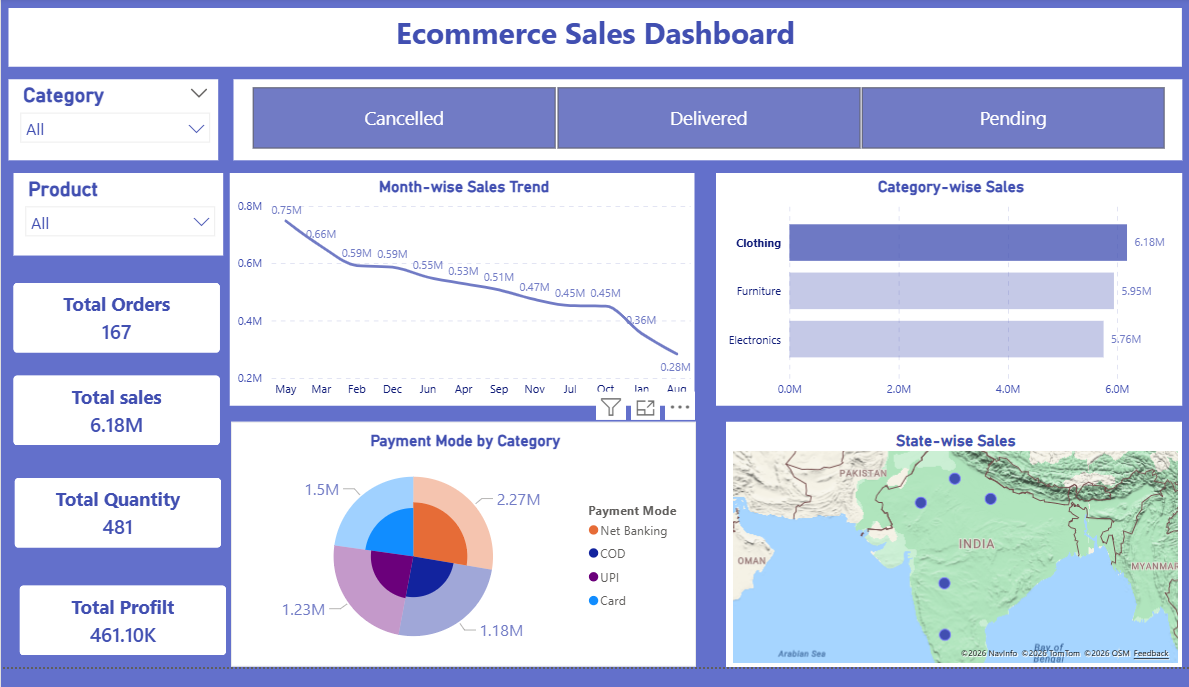

This screenshot's page, from the dashboard's own definition file:
{"tool":"powerbi","page":{"name":"Page 1","canvas":[1280,720],"ordinal":0},"visuals":[{"type":"textbox","box":[8.1,10.8,1262.8,63.2],"z":0},{"type":"cardVisual","fields":{"Data":["Ecommerce_Data.Total sales"]},"box":[1.3,394,246.1,99.5],"z":1000},{"type":"cardVisual","fields":{"Data":["Ecommerce_Data.Total Quantity"]},"box":[2.7,504.3,246.1,99.5],"z":2000},{"type":"cardVisual","fields":{"Data":["Ecommerce_Data.Total Profilt"]},"box":[8.1,620,246.1,99.5],"z":3000},{"type":"cardVisual","fields":{"Data":["Ecommerce_Data.Total Orders"]},"box":[1.3,294.5,246.1,99.5],"z":4000},{"type":"lineChart","title":"Month-wise Sales Trend","fields":{"Y":["Ecommerce_Data.Total sales"],"Category":["Ecommerce_Data.Month"]},"box":[246.1,188.3,500.3,250.1],"z":5000},{"type":"barChart","title":"Category-wise Sales","fields":{"Category":["Ecommerce_Data.Category"],"Y":["Ecommerce_Data.Total sales"]},"box":[769.2,188.3,501.6,250.1],"z":6000},{"type":"pieChart","title":" Payment Mode by Category","fields":{"Category":["Ecommerce_Data.Payment Mode"],"Y":["Sum(Ecommerce_Data.Sales)"]},"box":[248,455.9,500.3,263.6],"z":7000},{"type":"azureMap","title":"State-wise Sales","fields":{"Size":["Sum(Ecommerce_Data.Sales)"],"Category":["Ecommerce_Data.State"]},"box":[780.2,456.1,490.4,264.1],"z":8000},{"type":"slicer","fields":{"Values":["Ecommerce_Data.Delivery Status"]},"box":[250.1,87.4,1020.7,87.4],"z":8001},{"type":"slicer","fields":{"Values":["Ecommerce_Data.Category"]},"box":[8.1,87.4,225.9,87.4],"z":8002},{"type":"slicer","fields":{"Values":["Ecommerce_Data.Product"]},"box":[13.4,188.3,225.9,88.8],"z":8003}]}

Visuals, with their boxes in screenshot pixels (x1, y1, x2, y2), scaled from the page's 1280x720 canvas onto the 1189x687 screenshot:
textbox: <box>8,10,1181,71</box>
cardVisual - Ecommerce_Data.Total sales: <box>1,376,230,471</box>
cardVisual - Ecommerce_Data.Total Quantity: <box>3,481,231,576</box>
cardVisual - Ecommerce_Data.Total Profilt: <box>8,592,236,686</box>
cardVisual - Ecommerce_Data.Total Orders: <box>1,281,230,376</box>
"Month-wise Sales Trend" lineChart: <box>229,180,693,418</box>
"Category-wise Sales" barChart: <box>715,180,1180,418</box>
" Payment Mode by Category" pieChart: <box>230,435,695,686</box>
"State-wise Sales" azureMap: <box>725,435,1180,686</box>
slicer - Ecommerce_Data.Delivery Status: <box>232,83,1180,167</box>
slicer - Ecommerce_Data.Category: <box>8,83,217,167</box>
slicer - Ecommerce_Data.Product: <box>12,180,222,264</box>
